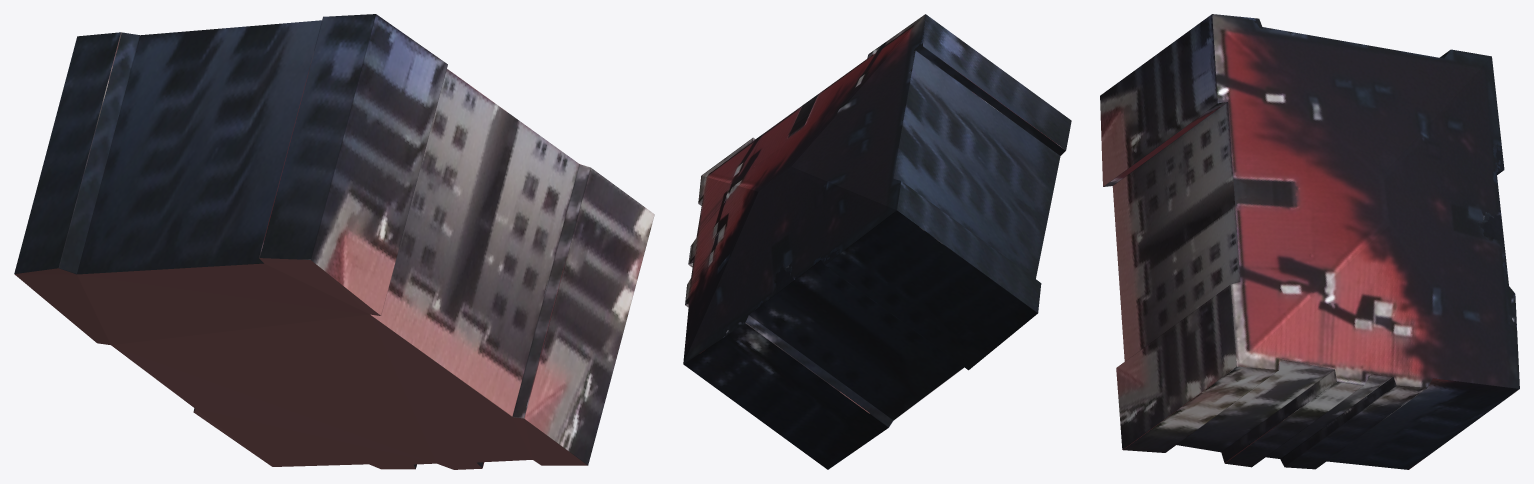
3 views of the same model, side by side, from view 1: azimuth 30°, elevation 25°; view 2: azimuth 150°, elevation 25°; view 3: azimuth 270°, elevation 25° (orthographic). The views are drawn at different scales.
Bounding box in the file's own units: 39.54 × 37.23 × 31.5.
Materials: 1 (1 with a texture image).
